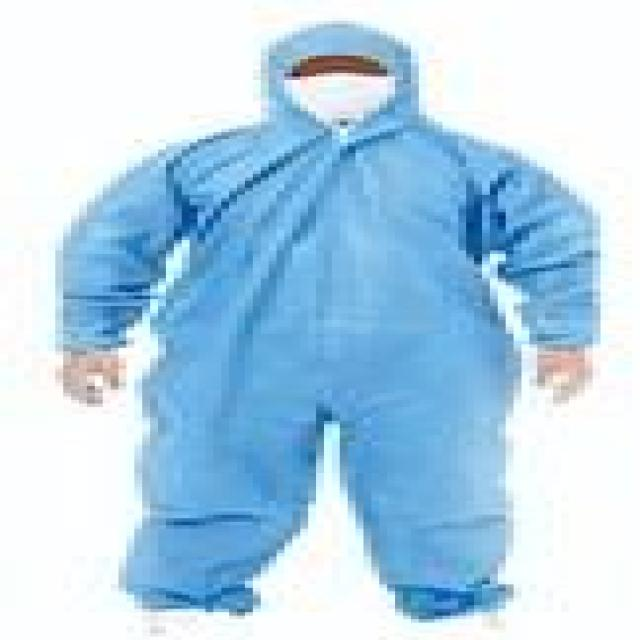Coverall: (40, 11, 593, 637)
Mask: (269, 63, 395, 118)
